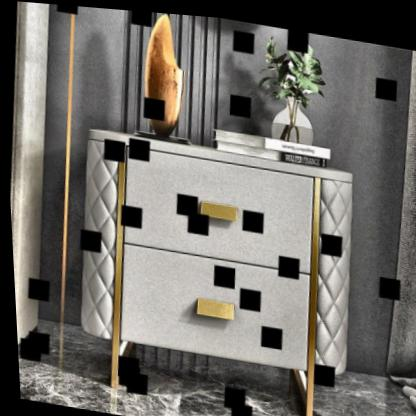Nightstand: (67, 124, 363, 414)
